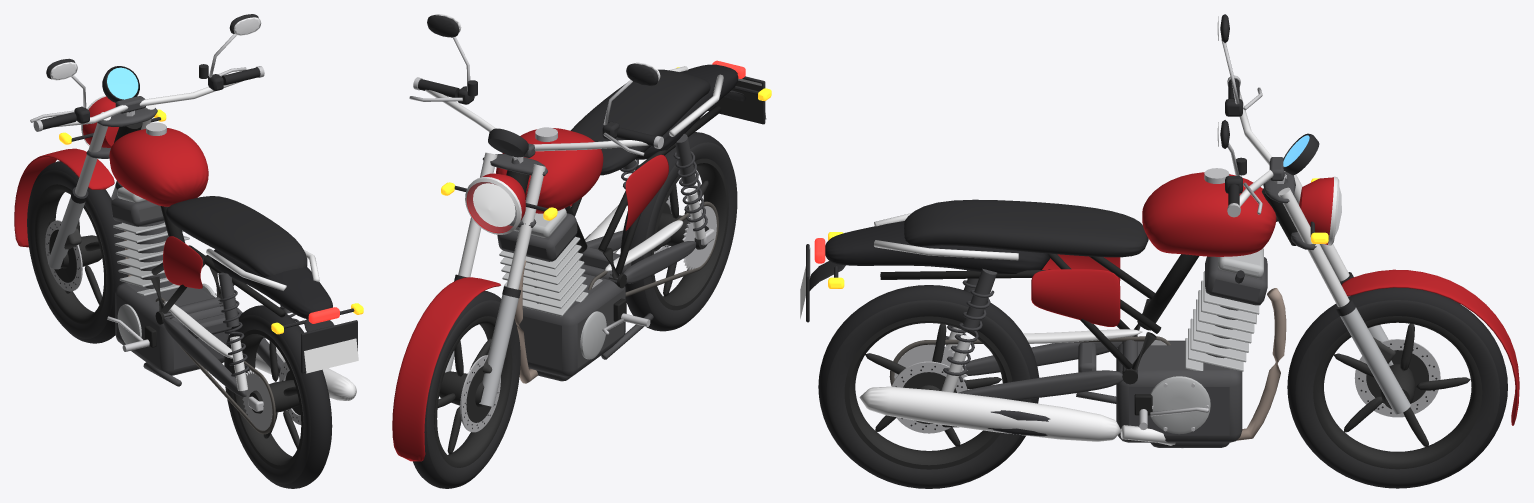
3 renders of one model, left to right at view 1: azimuth 30°, elevation 25°; view 2: azimuth 150°, elevation 25°; view 3: azimuth 270°, elevation 25°, orthographic. The views are drawn at different scales.
Parts seen in each view (by area): view 1: body, wheel_rear, wheel_front, steer, swingarm, fork_lower; view 2: body, steer, wheel_rear, wheel_front, fork_lower, swingarm; view 3: body, wheel_front, wheel_rear, steer, swingarm, fork_lower.
Boxes of the visible parts, <box> form: body: <box>107,122,363,400</box>; wheel_rear: <box>224,305,332,488</box>; wheel_front: <box>27,161,129,343</box>; steer: <box>30,14,264,196</box>; swingarm: <box>155,297,283,434</box>; fork_lower: <box>14,148,122,269</box>; body: <box>496,60,771,383</box>; steer: <box>409,14,663,289</box>; wheel_rear: <box>620,132,737,331</box>; wheel_front: <box>413,291,520,488</box>; fork_lower: <box>392,274,520,461</box>; swingarm: <box>579,201,718,296</box>; body: <box>800,168,1297,448</box>; wheel_front: <box>1287,287,1507,488</box>; wheel_rear: <box>818,285,1039,488</box>; steer: <box>1217,14,1349,307</box>; swingarm: <box>889,329,1170,427</box>; fork_lower: <box>1335,269,1519,425</box>.
Bounding box in the file's own units: 0.86 × 1.29 × 2.01.
